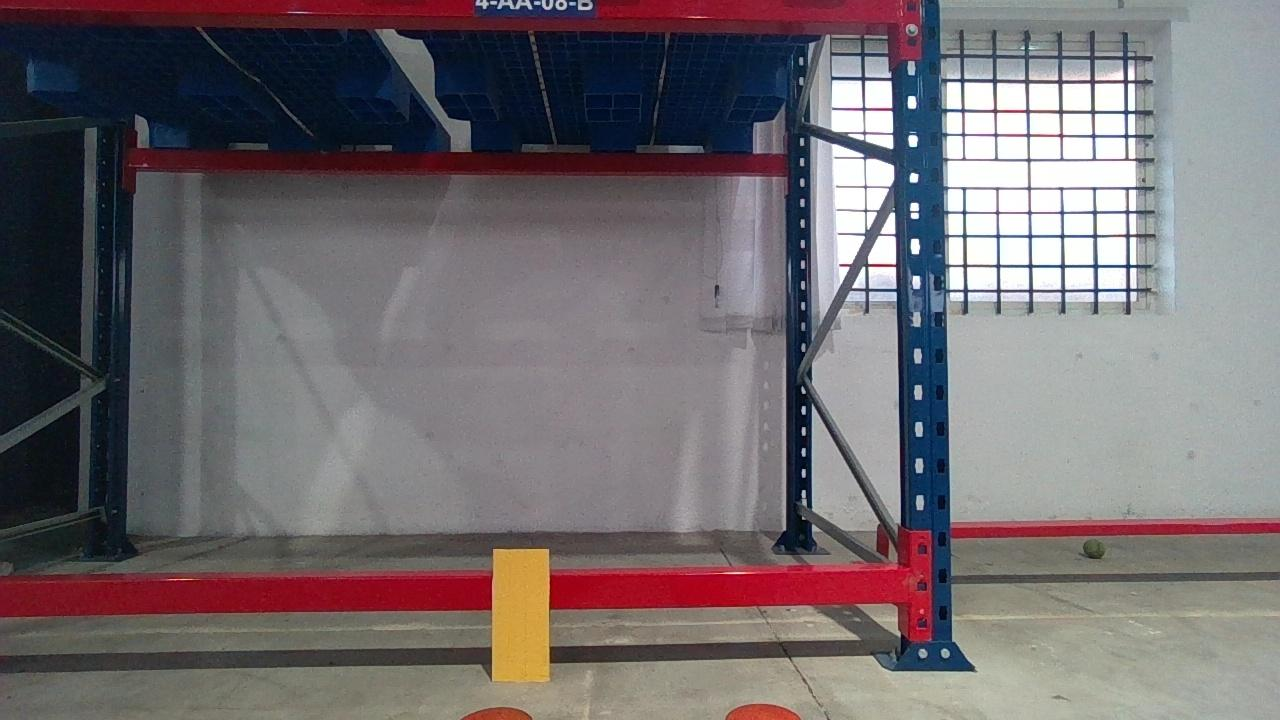h_rack: (0, 571, 913, 612), (6, 0, 904, 24)
